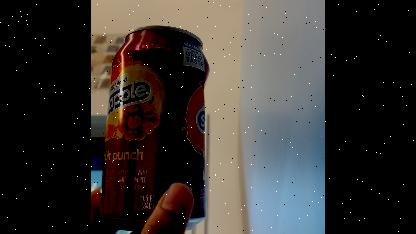Can: (101, 23, 216, 234)
